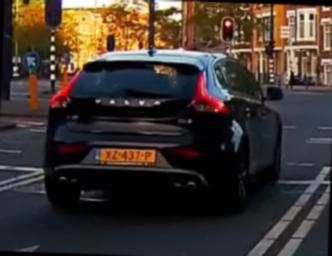license-plate: (93, 148, 157, 164)
